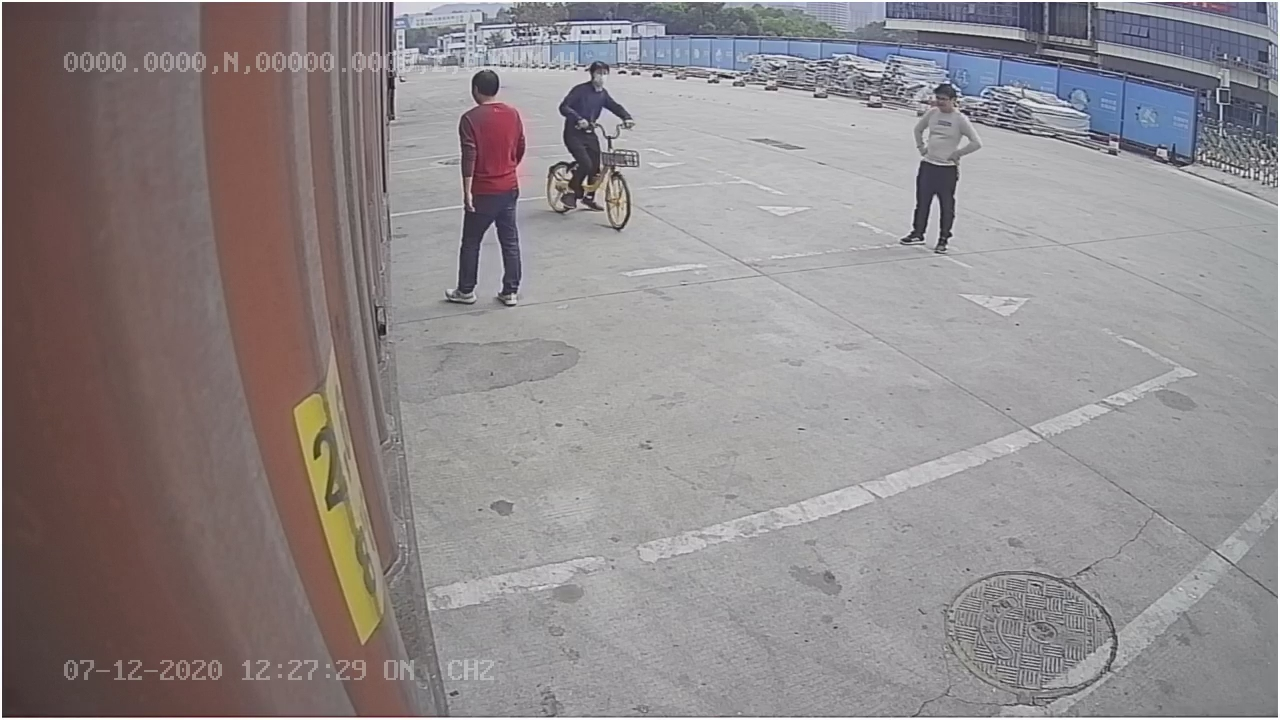person: (438, 65, 531, 315)
